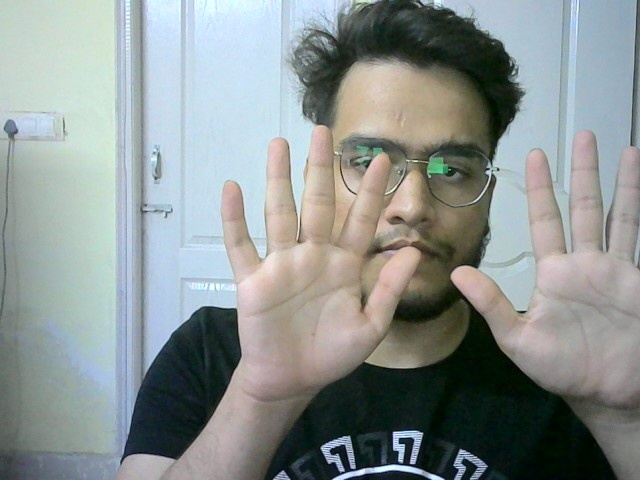Hello: (215, 121, 425, 402)
